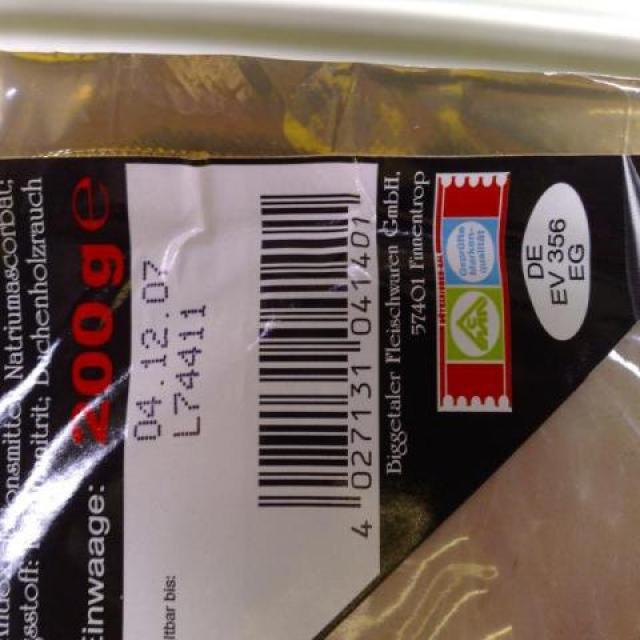Barcode: (237, 168, 379, 569)
